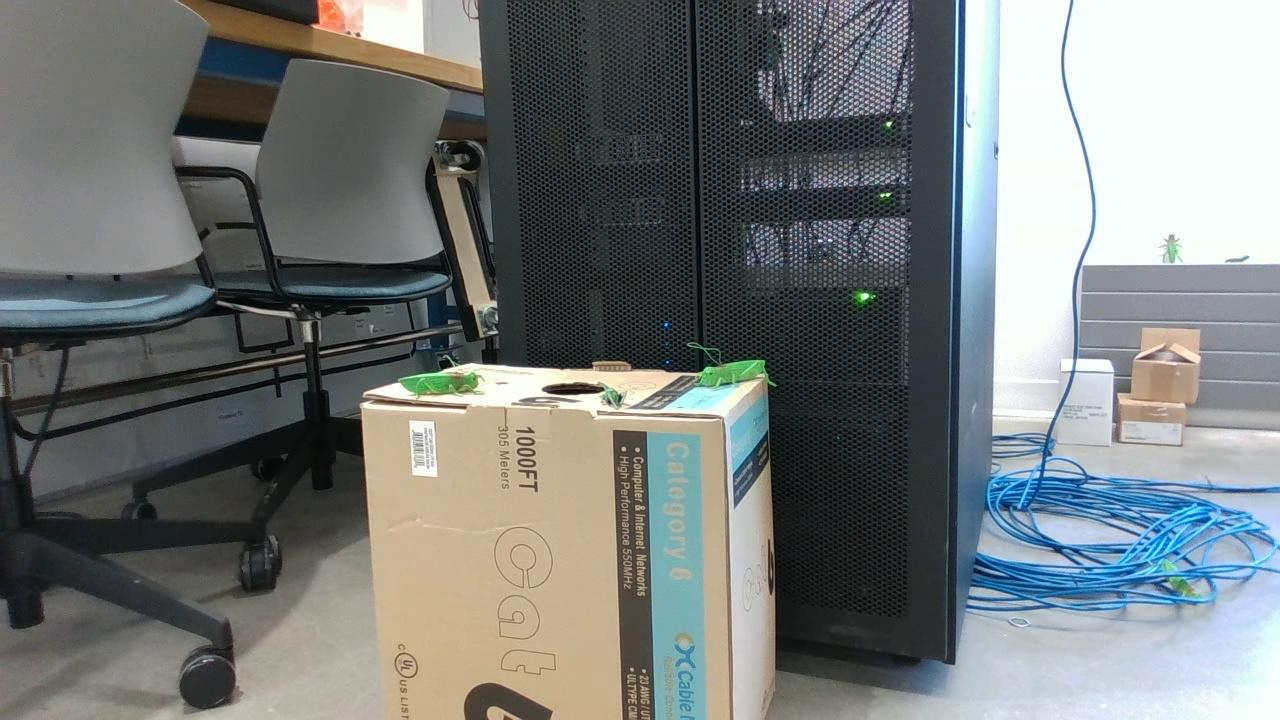grasshopper: (693, 360, 778, 387), (400, 374, 482, 398), (1161, 232, 1183, 267)
